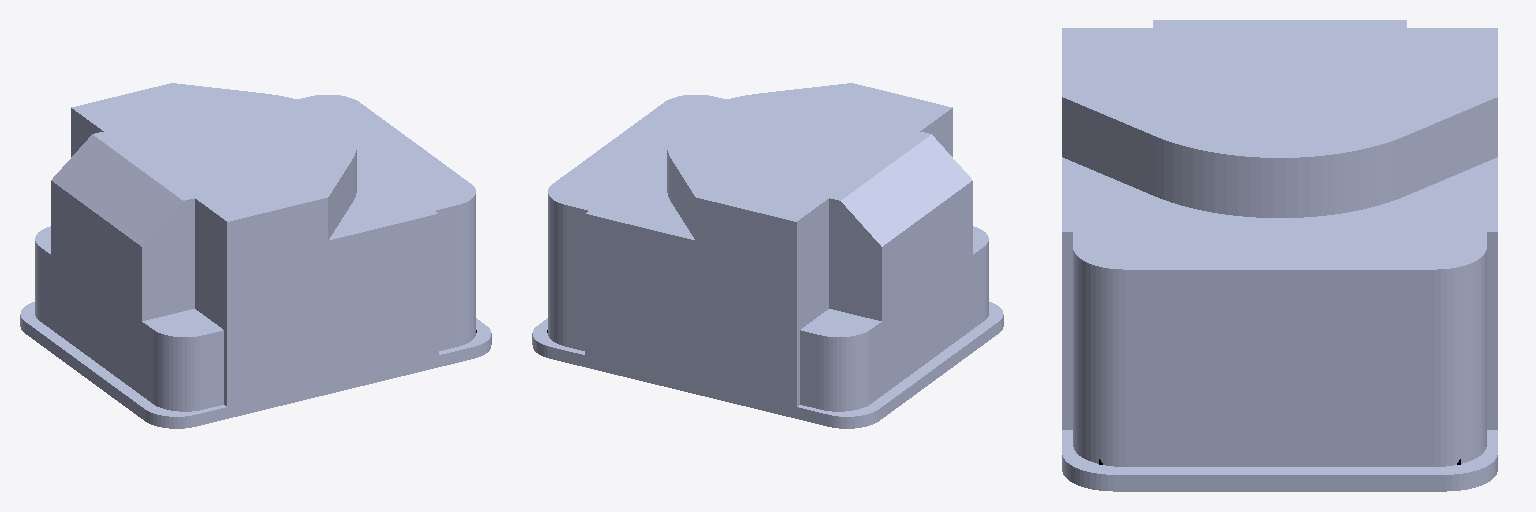
The robot description file, URDF, robot "agv_robot":
<?xml version="1.0" ?>
<robot name="agv_robot">

  <link name="base_link" /> 

  <link name="link_chassis">
    <!-- pose and inertial -->
    <inertial>
      <mass value="50" />
      <origin xyz="0 0 0" rpy="0 0 0" />
      <inertia
        ixx="4.69"
        ixy="0"
        ixz="0"
        iyy="5.77"
        iyz="0"
        izz="7.08" />
    </inertial>
    <visual>
      <origin xyz="-0.35 0 0" rpy="0 0 -1.5708" />
      <geometry>
        <mesh filename="package://meshes/AMR_CAD_v1.stl" scale="0.001 0.001 0.001"/>
      </geometry>
      <material name="">
          <color rgba="0.79216 0.81961 0.93333 1" />
      </material>
    </visual>
  </link>

  <joint name="base_link_joint" type="fixed">
    <parent link="base_link"/>
    <child link="link_chassis" />
    <origin xyz="0 0 0.05" rpy="0 0 0"/>
  </joint>

  <!-- left wheel -->
  <link name="link_left_wheel">
    <inertial>
      <mass value="3.0" />
      <origin xyz="0 0 0" rpy="0 0 0" />
      <inertia
        ixx="0.00856502765719703"
        ixy="1.5074118157338E-19"
        ixz="-4.78150098725052E-19"
        iyy="0.013670640432096"
        iyz="-2.68136447099727E-19"
        izz="0.00856502765719703" />
    </inertial>
    <visual>
      <origin xyz="0 0 0" rpy="0 1.5708 1.5708" />
      <geometry>
        <cylinder length="0.03" radius="0.05" />
      </geometry>
      <material name="">
        <color rgba="0.79216 0.81961 0.93333 1" />
      </material>
    </visual>
    <collision>
      <origin xyz="0 0 0" rpy="0 1.5708 1.5708" />
      <geometry>
        <cylinder length="0.03" radius="0.05" />
      </geometry>
    </collision>
  </link>

  <joint name="joint_left_wheel" type="continuous">
    <parent link="link_chassis" />
    <child link="link_left_wheel" />
    <origin xyz="0 -0.23 0" rpy="0 0 0" />
    <axis xyz="0 1 0" />
    <dynamics damping="0.5"/>
    <limit effort="10" velocity="20"/>
  </joint>

  <!-- right wheel -->
  <link name="link_right_wheel">
    <inertial>
      <mass value="3.0" />
      <origin xyz="0 0 0" rpy="0 0 0" />
      <inertia
        ixx="0.00856502765719703"
        ixy="1.5074118157338E-19"
        ixz="-4.78150098725052E-19"
        iyy="0.013670640432096"
        iyz="-2.68136447099727E-19"
        izz="0.00856502765719703" />
    </inertial>
    <visual>
      <origin xyz="0 0 0" rpy="0 1.5708 1.5708" />
      <geometry>
        <cylinder length="0.03" radius="0.05" />
      </geometry>
      <material name="gray" />
    </visual>
    <collision>
      <origin xyz="0 0 0" rpy="0 1.5708 1.5708" />
      <geometry>
        <cylinder length="0.03" radius="0.05" />
      </geometry>
    </collision>
  </link>

  <joint name="joint_right_wheel" type="continuous">
    <parent link="link_chassis" />
    <child link="link_right_wheel" />
    <origin xyz="0 0.23 0" rpy="0 0 0" />
    <axis xyz="0 1 0" />
    <dynamics damping="0.5"/>
    <limit effort="10" velocity="20"/>
  </joint>

  <!-- Front left caster wheel -->
  <link name="front_left_caster">
    <inertial>
      <mass value="1.0" />
      <origin xyz="0 0 0" rpy="0 0 0" />
      <inertia ixx="0.0005" ixy="0.0" ixz="0.0" iyy="0.0005" iyz="0.0" izz="0.0005" />
    </inertial>
    <visual>
      <origin xyz="0 0 0" rpy="0 1.5708 1.5708" />
      <geometry>
        <cylinder length="0.03" radius="0.04" />
      </geometry>
      <material name="black" />
    </visual>
    <collision>
      <origin xyz="0 0 0" rpy="0 1.5708 1.5708" />
      <geometry>
        <cylinder length="0.03" radius="0.04" />
      </geometry>
    </collision>
  </link>

  <joint name="front_left_caster_joint" type="continuous">
    <parent link="link_chassis" />
    <child link="front_left_caster" />
    <origin xyz="-0.3 0.23 -0.01" rpy="0 0 0" />
    <axis xyz="0 1 0" />
    <dynamics damping="0.5"/>
    <limit effort="10" velocity="20"/>
  </joint>

  <!-- Front right caster wheel -->
  <link name="front_right_caster">
    <inertial>
      <mass value="1.0" />
      <origin xyz="0 0 0" rpy="0 0 0" />
      <inertia ixx="0.0005" ixy="0.0" ixz="0.0" iyy="0.0005" iyz="0.0" izz="0.0005" />
    </inertial>
    <visual>
      <origin xyz="0 0 0" rpy="0 1.5708 1.5708" />
      <geometry>
        <cylinder length="0.03" radius="0.04" />
      </geometry>
      <material name="black" />
    </visual>
    <collision>
      <origin xyz="0 0 0" rpy="0 1.5708 1.5708" />
      <geometry>
        <cylinder length="0.03" radius="0.04" />
      </geometry>
    </collision>
  </link>

  <joint name="front_right_caster_joint" type="continuous">
    <parent link="link_chassis" />
    <child link="front_right_caster" />
    <origin xyz="-0.3 -0.23 -0.01" rpy="0 0 0" />
    <axis xyz="0 1 0" />
    <dynamics damping="0.5"/>
    <limit effort="10" velocity="20"/>
  </joint>

  <!-- Rear left caster wheel -->
  <link name="rear_left_caster">
    <inertial>
      <mass value="1.0" />
      <origin xyz="0 0 0" rpy="0 1.5708 1.5708" />
      <inertia ixx="0.0005" ixy="0.0" ixz="0.0" iyy="0.0005" iyz="0.0" izz="0.0005" />
    </inertial>
    <visual>
      <origin xyz="0 0 0" rpy="0 1.5708 1.5708" />
      <geometry>
        <cylinder length="0.03" radius="0.04" />
      </geometry>
      <material name="black" />
    </visual>
    <collision>
      <origin xyz="0 0 0" rpy="0 1.5708 1.5708" />
      <geometry>
        <cylinder length="0.03" radius="0.04" />
      </geometry>
    </collision>
  </link>

  <joint name="rear_left_caster_joint" type="continuous">
    <parent link="link_chassis" />
    <child link="rear_left_caster" />
    <origin xyz="0.3 0.23 -0.01" rpy="0 0 0" />
    <axis xyz="0 1 0" />
    <dynamics damping="0.5"/>
    <limit effort="10" velocity="20"/>
  </joint>

  <!-- Rear right caster wheel -->
  <link name="rear_right_caster">
    <inertial>
      <mass value="1.0" />
      <origin xyz="0 0 0" rpy="0 1.5708 1.5708" />
      <inertia ixx="0.0005" ixy="0.0" ixz="0.0" iyy="0.0005" iyz="0.0" izz="0.0005" />
    </inertial>
    <visual>
      <origin xyz="0 0 0" rpy="0 1.5708 1.5708" />
      <geometry>
        <cylinder length="0.03" radius="0.04" />
      </geometry>
      <material name="black" />
    </visual>
    <collision>
      <origin xyz="0 0 0" rpy="0 0 0" />
      <geometry>
        <cylinder length="0.03" radius="0.04" />
      </geometry>
    </collision>
  </link>

  <joint name="rear_right_caster_joint" type="continuous">
    <parent link="link_chassis" />
    <child link="rear_right_caster" />
    <origin xyz="0.3 -0.23 -0.01" rpy="0 0 0" />
    <axis xyz="0 1 0" />
    <dynamics damping="0.5"/>
    <limit effort="10" velocity="20"/>
  </joint>

  <!-- add Sick_tim_link -->
  <!-- <link name="laser">
    <inertial>
      <mass value="0.1" />
      <origin xyz="0 0 0" rpy="0 0 0" />
      <inertia ixx="0.0001" ixy="0.0" ixz="0.0" iyy="0.0001" iyz="0.0" izz="0.0001" />
    </inertial>
    <visual>
      <origin xyz="0.0 0.0 0.0" rpy="0 0 0" />
      <geometry>
        <cylinder length="0.05" radius="0.03" />
        <mesh filename="package://sick_tim/meshes/sick_tim551.stl"/>
      </geometry>
      <material name="orange" />
    </visual>
    <collision>
      <origin xyz="0.0 0.0 0.0" rpy="0 0 0" />
      <geometry>
        <cylinder length="0.05" radius="0.03" />
      </geometry>
    </collision>
  </link> -->

  <!-- <joint name="base_link_to_lidar_joint" type="fixed">
    <parent link="link_chassis" />
    <child link="laser" />
    <origin xyz="0.35 0.0 0.08" />
  </joint> -->

  <material name="gray">
      <color rgba="0.5 0.5 0.5 1.0" />
  </material>
  <material name="white">
      <color rgba="0.95 0.95 0.95 1.0" />
  </material>
  <material name="red">
      <color rgba="0.95 0.0 0.0 1.0" />
  </material>
  <material name="orange">
      <color rgba="1.0 0.5 0.0 1.0" />
  </material>
  <material name="yellow">
      <color rgba="1.0 1.0 0.0 1.0" />
  </material>
  <material name="green">
      <color rgba="0.0 1.0 0.0 1.0" />
  </material>
  <material name="blue">
      <color rgba="0.0 0.0 1.0 1.0" />
  </material>
  <material name="indigo">
      <color rgba="0.3 0.3 0.6 1.0" />
  </material>
  <material name="violet">
      <color rgba="0.6 0.0 1.0 1.0" />
  </material>
  <material name="black">
      <color rgba="0.0 0.0 0.0 1.0" />
  </material>
  
</robot>

--- Facts derived from the render (not from the file) ---
Views: 3 orthographic renders of the robot side by side, from view 1: azimuth 30°, elevation 25°; view 2: azimuth 150°, elevation 25°; view 3: azimuth 270°, elevation 25°.
Model agv_robot with 8 links and 7 joints (6 continuous, 1 fixed), rooted at base_link, posed all joints at 0.
Visible links, largest first — view 1: link_chassis; view 2: link_chassis; view 3: link_chassis.
Link boxes in pixels (left/top/right/bottom): link_chassis: left=20, top=83, right=491, bottom=428; link_chassis: left=532, top=83, right=1003, bottom=428; link_chassis: left=1062, top=20, right=1497, bottom=491.
Bounding box of the posed robot: 0.745 × 0.59 × 0.435 m (x, y, z).
1 mesh visuals loaded from 1 distinct referenced files (1 binary STL).
